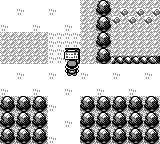leer: (64, 48, 80, 63)
main: (65, 61, 80, 75)
no-caminable: (80, 96, 159, 143), (0, 96, 48, 143), (96, 0, 111, 63)
salto: (113, 56, 159, 63)
